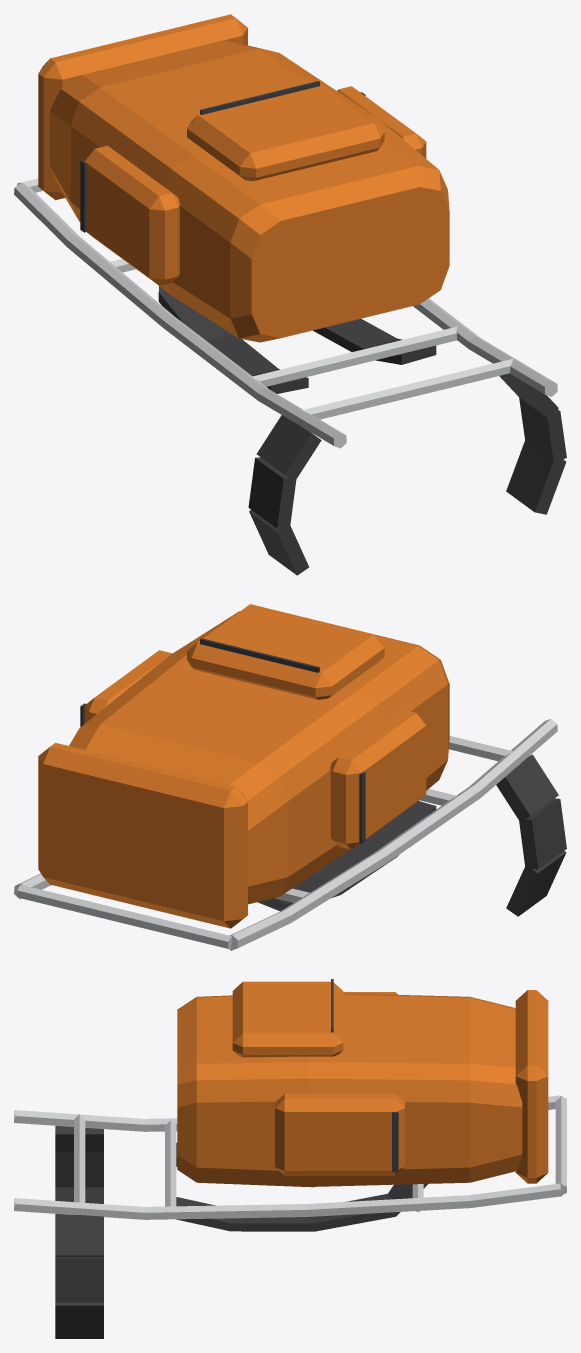
File: item-frame-pack.glb
3 renders of one model, top to bottom at view 1: azimuth 30°, elevation 25°; view 2: azimuth 150°, elevation 25°; view 3: azimuth 270°, elevation 25°, orthographic. The views are drawn at different scales.
Parts seen in each view (by area): view 1: framePack; view 2: framePack; view 3: framePack.
Boxes of the visible parts, left/top/right/bottom form: framePack: left=14, top=14, right=566, bottom=575; framePack: left=14, top=604, right=566, bottom=950; framePack: left=14, top=979, right=566, bottom=1338.
Size of the model in its own units: 0.4398 by 0.4794 by 0.8495.
